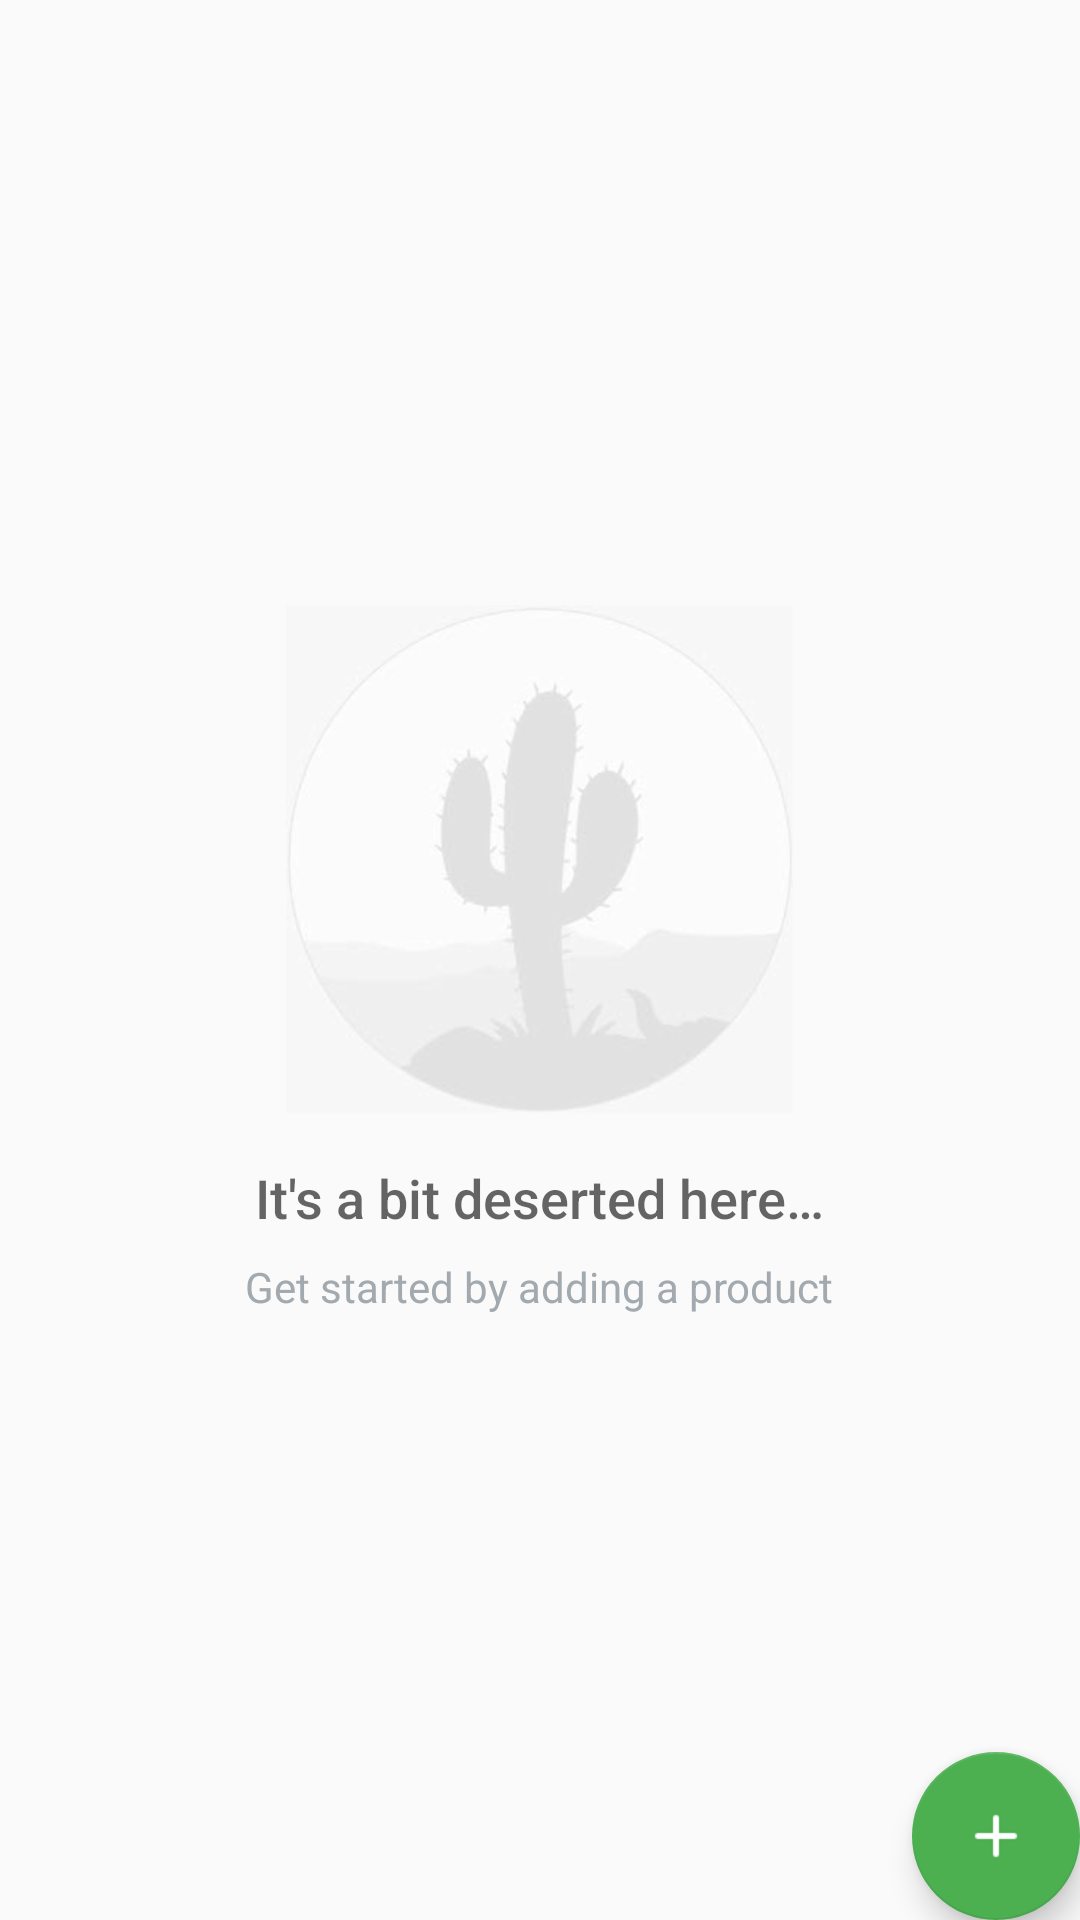

Named icons in this screenshot (1080x1920) and their bounding boxes, [x1, y1, x2, y2]:
add product: [912, 1752, 1080, 1920]
